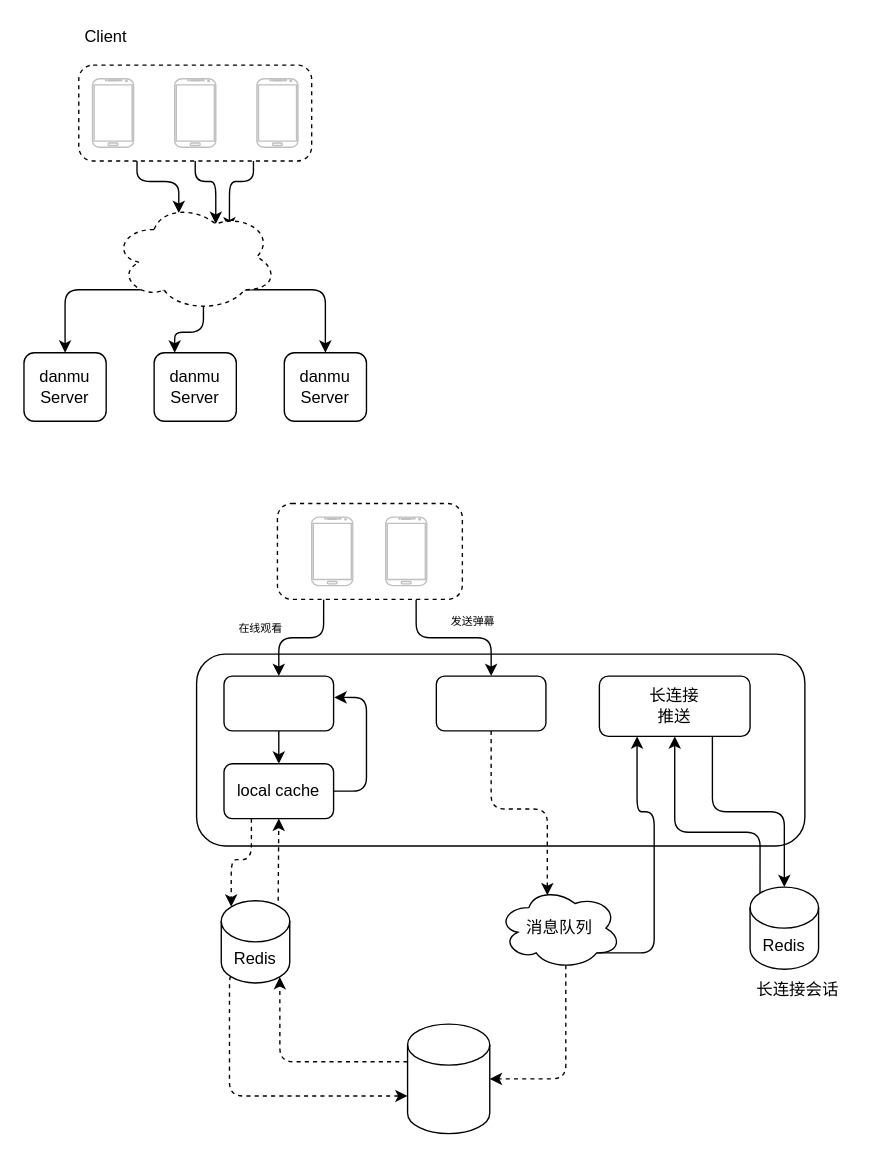
The diagram is 870 pixels wide and 1158 high, and some of its shapes have lost their labels. Here are the shapes that lost their labels. From the top down, the centre of each, then its label:
(x=194, y=256): 负载均衡 反向代理
(x=278, y=703): 弹幕读服务
(x=490, y=703): 弹幕写服务
(x=448, y=1078): MySQL PG
